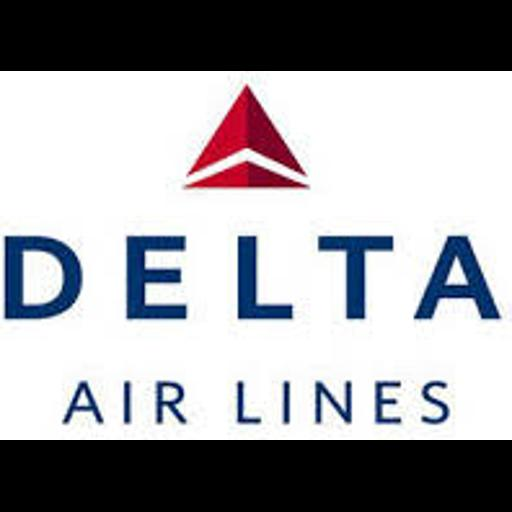Delta Air Lines: (0, 71, 512, 440)
